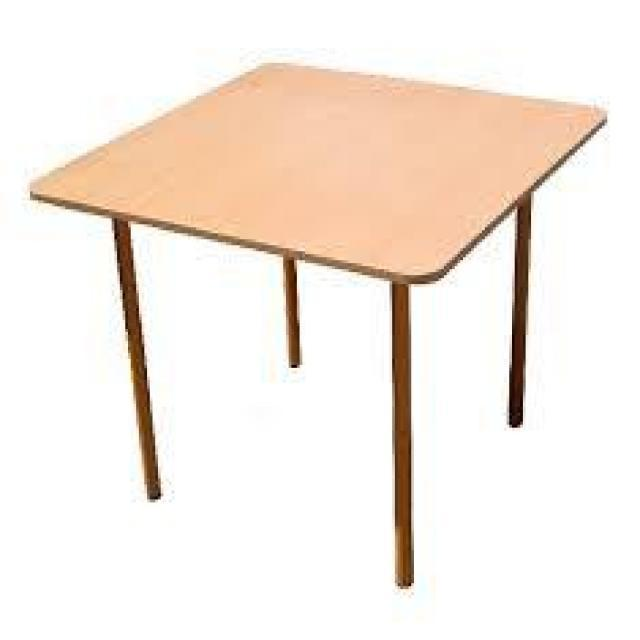mobile-phone: (28, 56, 608, 588)
